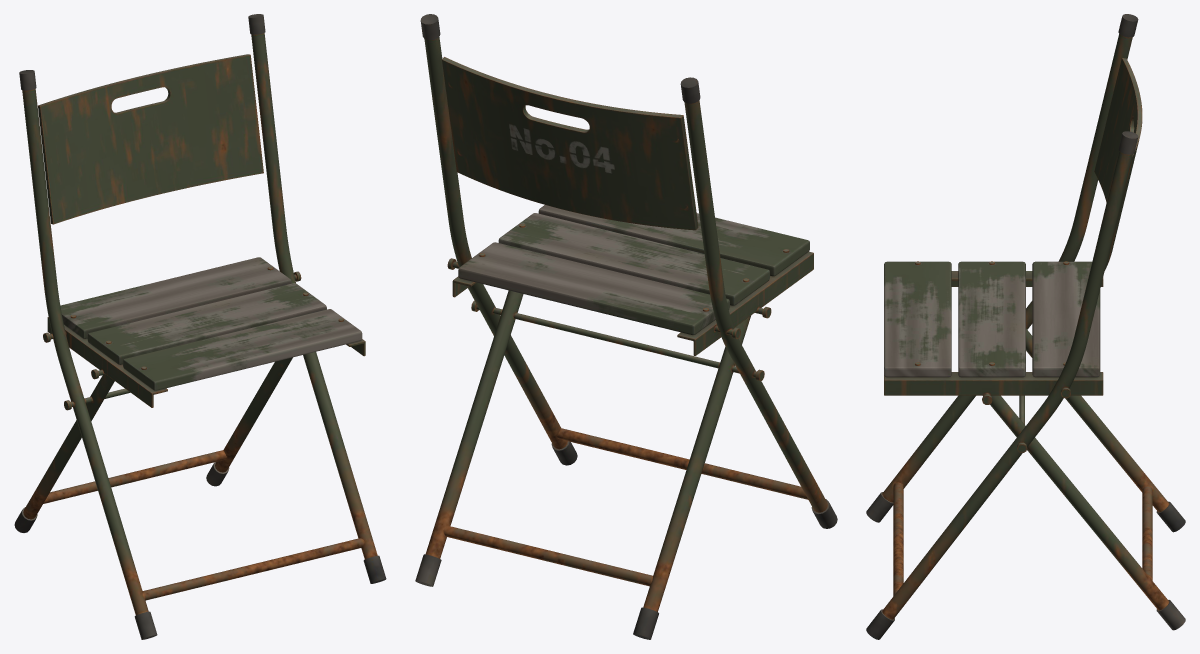
Rendered from Chair.glb.
3 renders of one model, left to right at view 1: azimuth 30°, elevation 25°; view 2: azimuth 150°, elevation 25°; view 3: azimuth 270°, elevation 25°, orthographic. The views are drawn at different scales.
Visible parts, largest first — view 1: Chair; view 2: Chair; view 3: Chair.
Boxes of the visible parts, x1,y1,x2,y2 form: Chair: [14, 14, 386, 639]; Chair: [415, 14, 837, 639]; Chair: [866, 14, 1185, 639].
Bounding box in the file's own units: 0.476 × 0.864 × 0.4954.
1 material, 1 textured.
